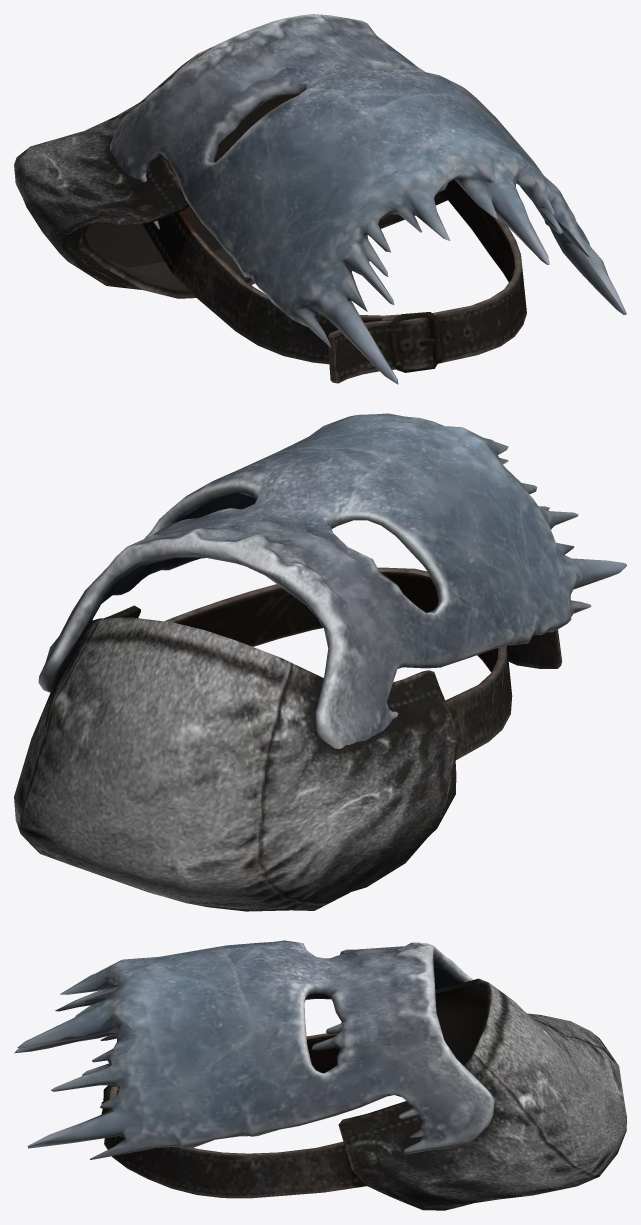
File: mask.metal_ice.worldmodel.glb
The picture shows the model from 3 angles, top to bottom: view 1: azimuth 30°, elevation 25°; view 2: azimuth 150°, elevation 25°; view 3: azimuth 270°, elevation 25°; orthographic projection. The views are drawn at different scales.
Visible parts, largest first — view 1: leather_LOD0; view 2: leather_LOD0; view 3: leather_LOD0.
Boxes of the visible parts, x1,y1,x2,y2 form: leather_LOD0: (14, 14, 626, 384); leather_LOD0: (14, 413, 626, 911); leather_LOD0: (14, 940, 626, 1210).
Bounding box in the file's own units: 0.2006 × 0.1449 × 0.3384.
1 material, 1 textured.
